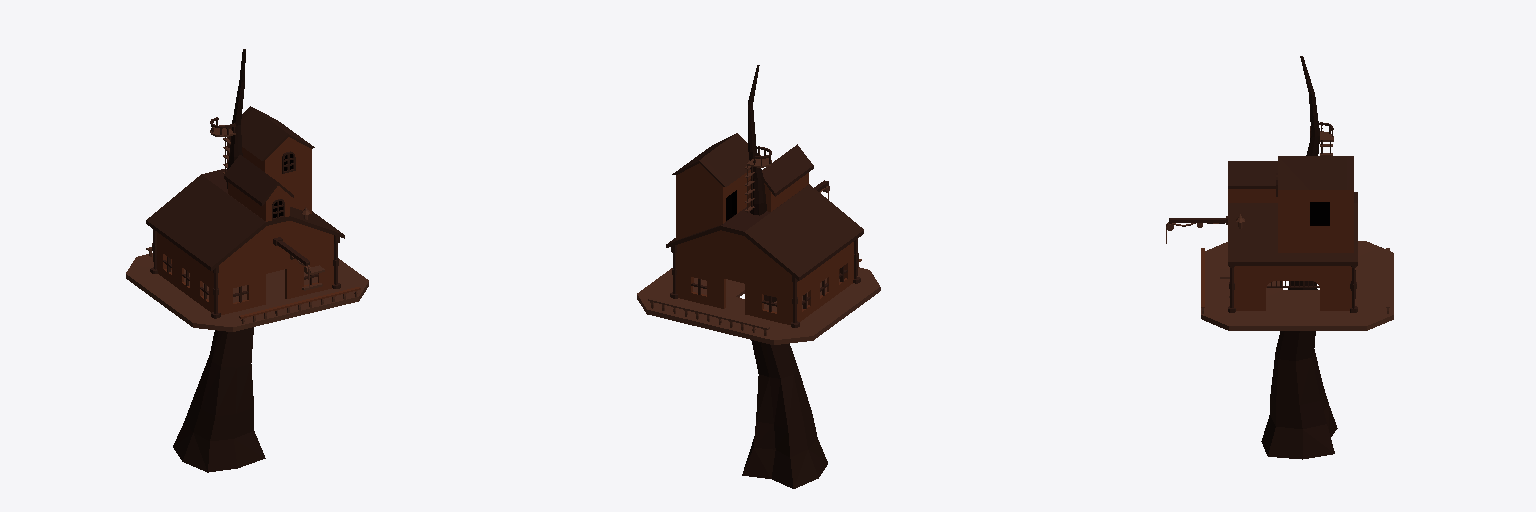
File: SM_Cabin.obj
3 views of the same model, side by side, from view 1: azimuth 30°, elevation 25°; view 2: azimuth 150°, elevation 25°; view 3: azimuth 270°, elevation 25° (orthographic).
Parts seen in each view (by area): view 1: SM_Cabin:SM_Cabin; view 2: SM_Cabin:SM_Cabin; view 3: SM_Cabin:SM_Cabin.
Boxes of the visible parts, x1=… form: SM_Cabin:SM_Cabin: x1=126, y1=49, x2=368, y2=472; SM_Cabin:SM_Cabin: x1=637, y1=65, x2=880, y2=488; SM_Cabin:SM_Cabin: x1=1166, y1=56, x2=1393, y2=459.
Size of the model in its own units: 14.28 by 30.94 by 16.1.